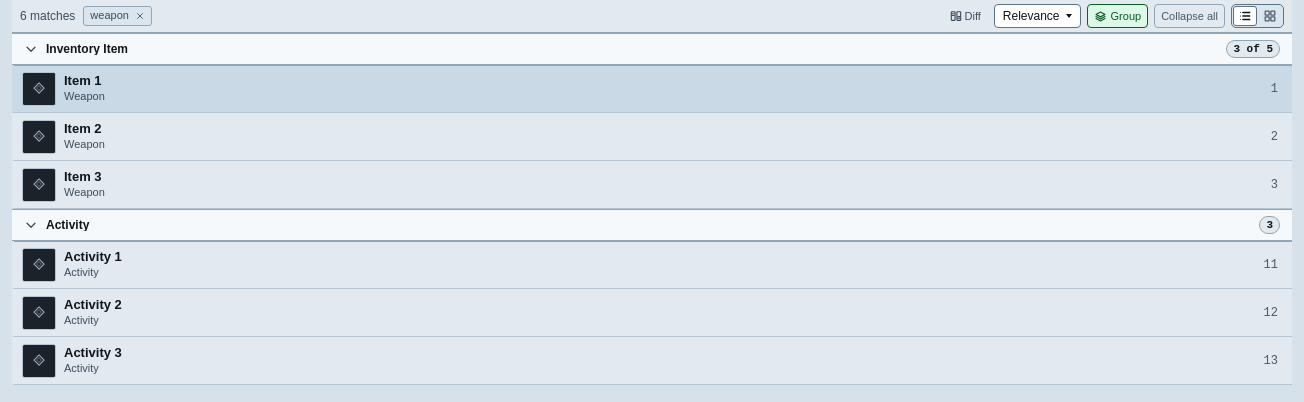
Test: ResultsPane table grouping › collapses and expands list sections while updating virtual height
This screenshot has width=1304, height=402.
Later steps or results of the test are not shown.
Expected: the number of options is 6, [12, 65, 1292, 113]; [12, 113, 1292, 161]; [12, 161, 1292, 209]; [12, 241, 1292, 289]; [12, 289, 1292, 337]; [12, 337, 1292, 385]
Step 1. Click the button "Inventory Item 3 of 5" → (87, 49), box [12, 33, 1292, 65]
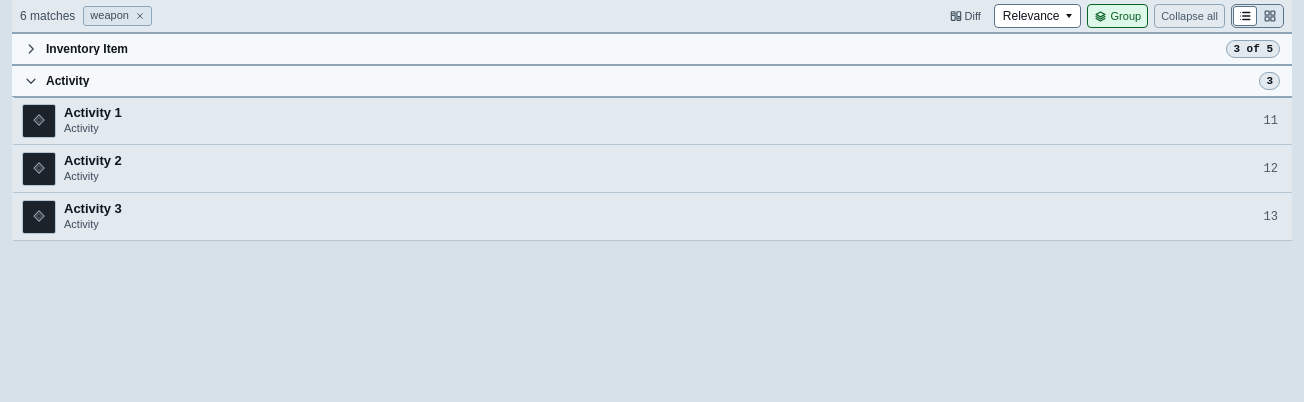
Result: the button "Inventory Item 3 of 5" is collapsed at [12, 33, 1292, 65]
Result: the number of options is 3 at [12, 97, 1292, 145]; [12, 145, 1292, 193]; [12, 193, 1292, 241]
